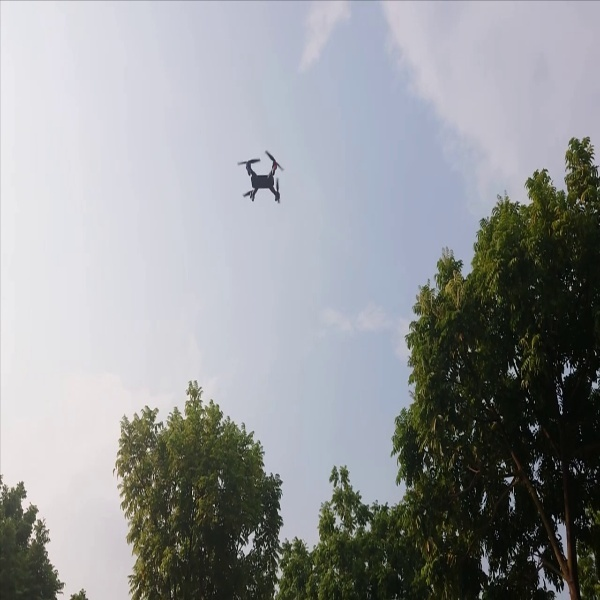drone: (236, 143, 292, 213)
